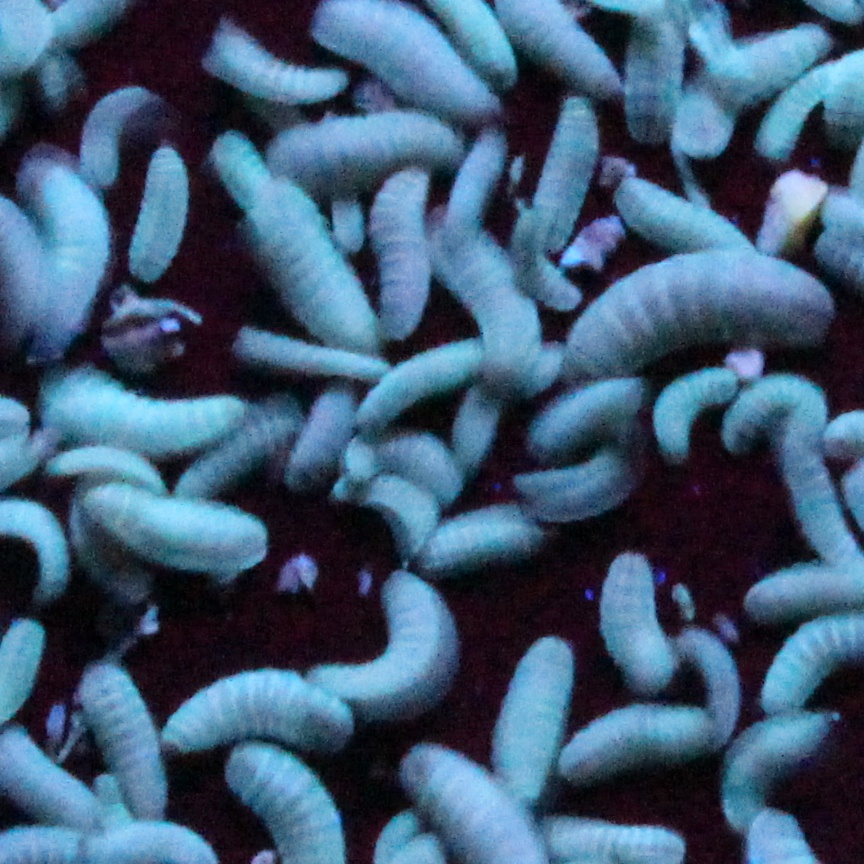larve: (557, 258, 842, 387), (241, 185, 397, 375), (413, 192, 555, 384), (294, 567, 468, 707), (157, 661, 365, 767), (75, 472, 283, 572), (27, 358, 239, 456), (564, 545, 684, 716), (610, 147, 755, 281), (70, 657, 176, 828), (485, 625, 576, 810), (249, 100, 462, 176), (526, 90, 606, 274), (350, 326, 478, 433), (196, 22, 345, 105), (401, 497, 539, 574), (652, 361, 749, 463), (132, 128, 191, 292), (75, 72, 152, 189)
